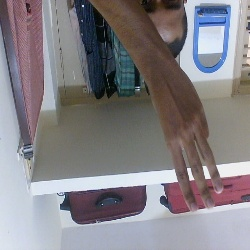hand: (137, 68, 233, 226)
